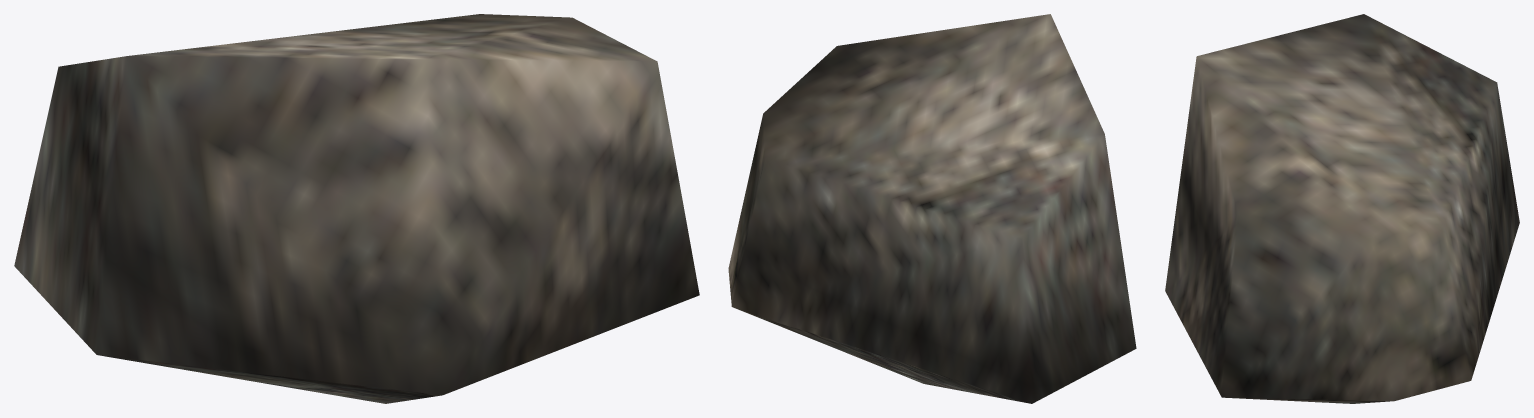
File: Rock1D.FBX
The picture shows the model from 3 angles, left to right: view 1: azimuth 30°, elevation 25°; view 2: azimuth 150°, elevation 25°; view 3: azimuth 270°, elevation 25°; orthographic projection. The views are drawn at different scales.
Visible parts, largest first — view 1: Rock1D; view 2: Rock1D; view 3: Rock1D.
Part boxes in pixels (x1,y1,x2,y2): Rock1D: (14, 14, 699, 403); Rock1D: (728, 14, 1136, 403); Rock1D: (1165, 14, 1519, 403).
Size of the model in its own units: 1.13 by 0.8997 by 0.8928.
